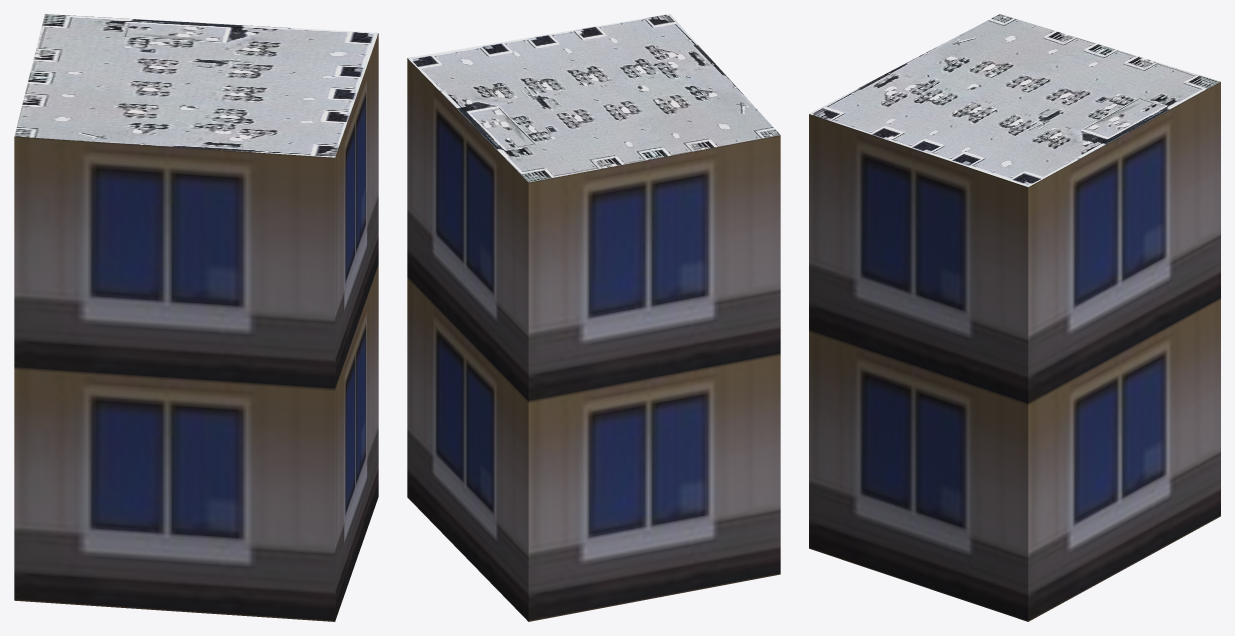
The model's file is ResTex__4881.fbx.
3 renders of one model, left to right at view 1: azimuth 30°, elevation 25°; view 2: azimuth 150°, elevation 25°; view 3: azimuth 270°, elevation 25°, orthographic. The views are drawn at different scales.
Parts seen in each view (by area): view 1: CityEngineMaterial_5_m, CityEngineMaterial_4_m; view 2: CityEngineMaterial_5_m, CityEngineMaterial_4_m; view 3: CityEngineMaterial_5_m, CityEngineMaterial_4_m.
Boxes of the visible parts, x1=… form: CityEngineMaterial_5_m: x1=14, y1=33, x2=378, y2=621; CityEngineMaterial_4_m: x1=14, y1=14, x2=378, y2=157; CityEngineMaterial_5_m: x1=407, y1=58, x2=780, y2=621; CityEngineMaterial_4_m: x1=408, y1=14, x2=779, y2=182; CityEngineMaterial_5_m: x1=809, y1=82, x2=1220, y2=621; CityEngineMaterial_4_m: x1=809, y1=14, x2=1220, y2=187.
Size of the model in its own units: 5.13 by 6 by 5.15.
Materials: 2 (2 with a texture image).
